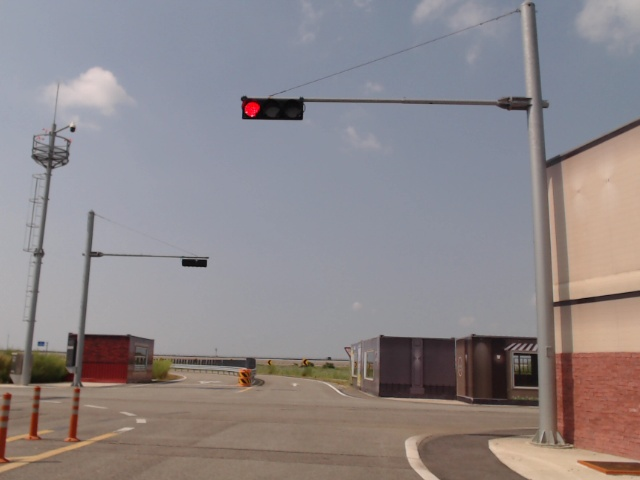red_3: (242, 98, 303, 120)
